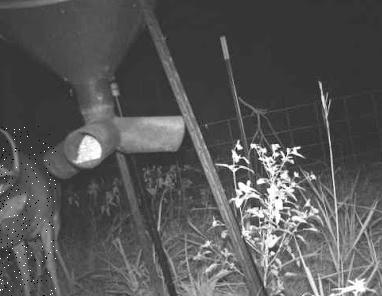Deer: (0, 126, 57, 296)
